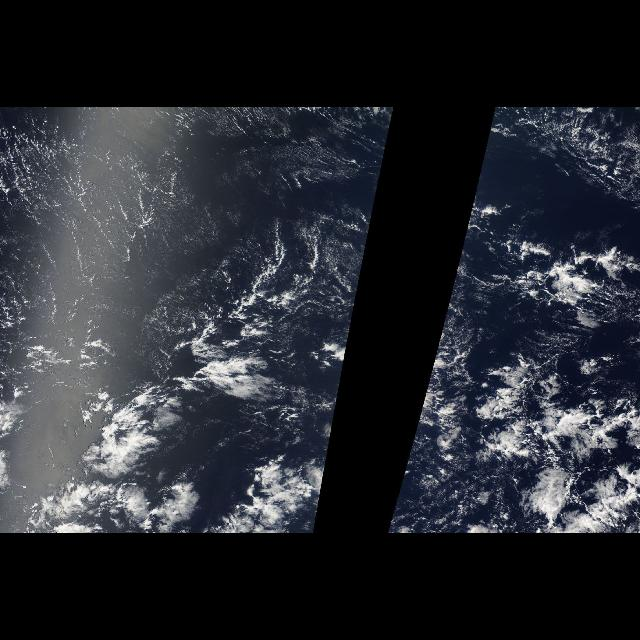Fish: (438, 237, 638, 533), (13, 311, 268, 525)
Gravel: (11, 122, 363, 362)
Sugar: (5, 109, 395, 333)
